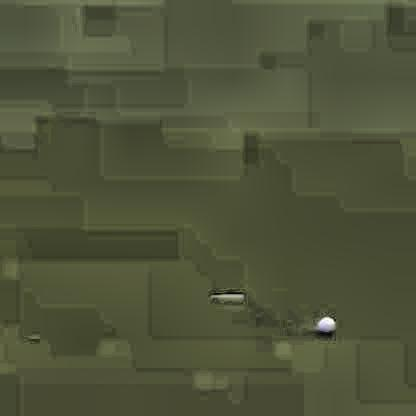golfball: (313, 313, 335, 334)
